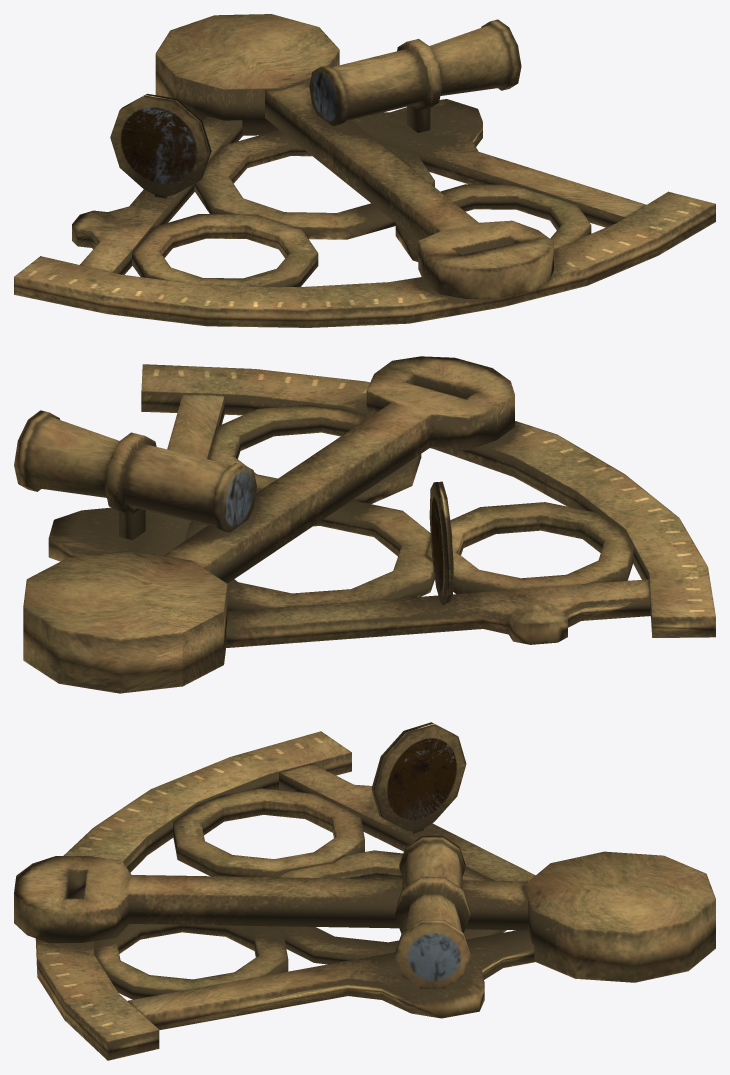
Rendered from sextant.glb.
3 renders of one model, top to bottom at view 1: azimuth 30°, elevation 25°; view 2: azimuth 150°, elevation 25°; view 3: azimuth 270°, elevation 25°, orthographic. The views are drawn at different scales.
Visible parts, largest first — view 1: defaultobject; view 2: defaultobject; view 3: defaultobject.
Boxes of the visible parts, x1,y1,x2,y2 form: defaultobject: (14, 14, 715, 327); defaultobject: (14, 356, 715, 693); defaultobject: (14, 722, 715, 1060).
Size of the model in its own units: 7.53 by 1.39 by 7.19.
Materials: 1 (1 with a texture image).
